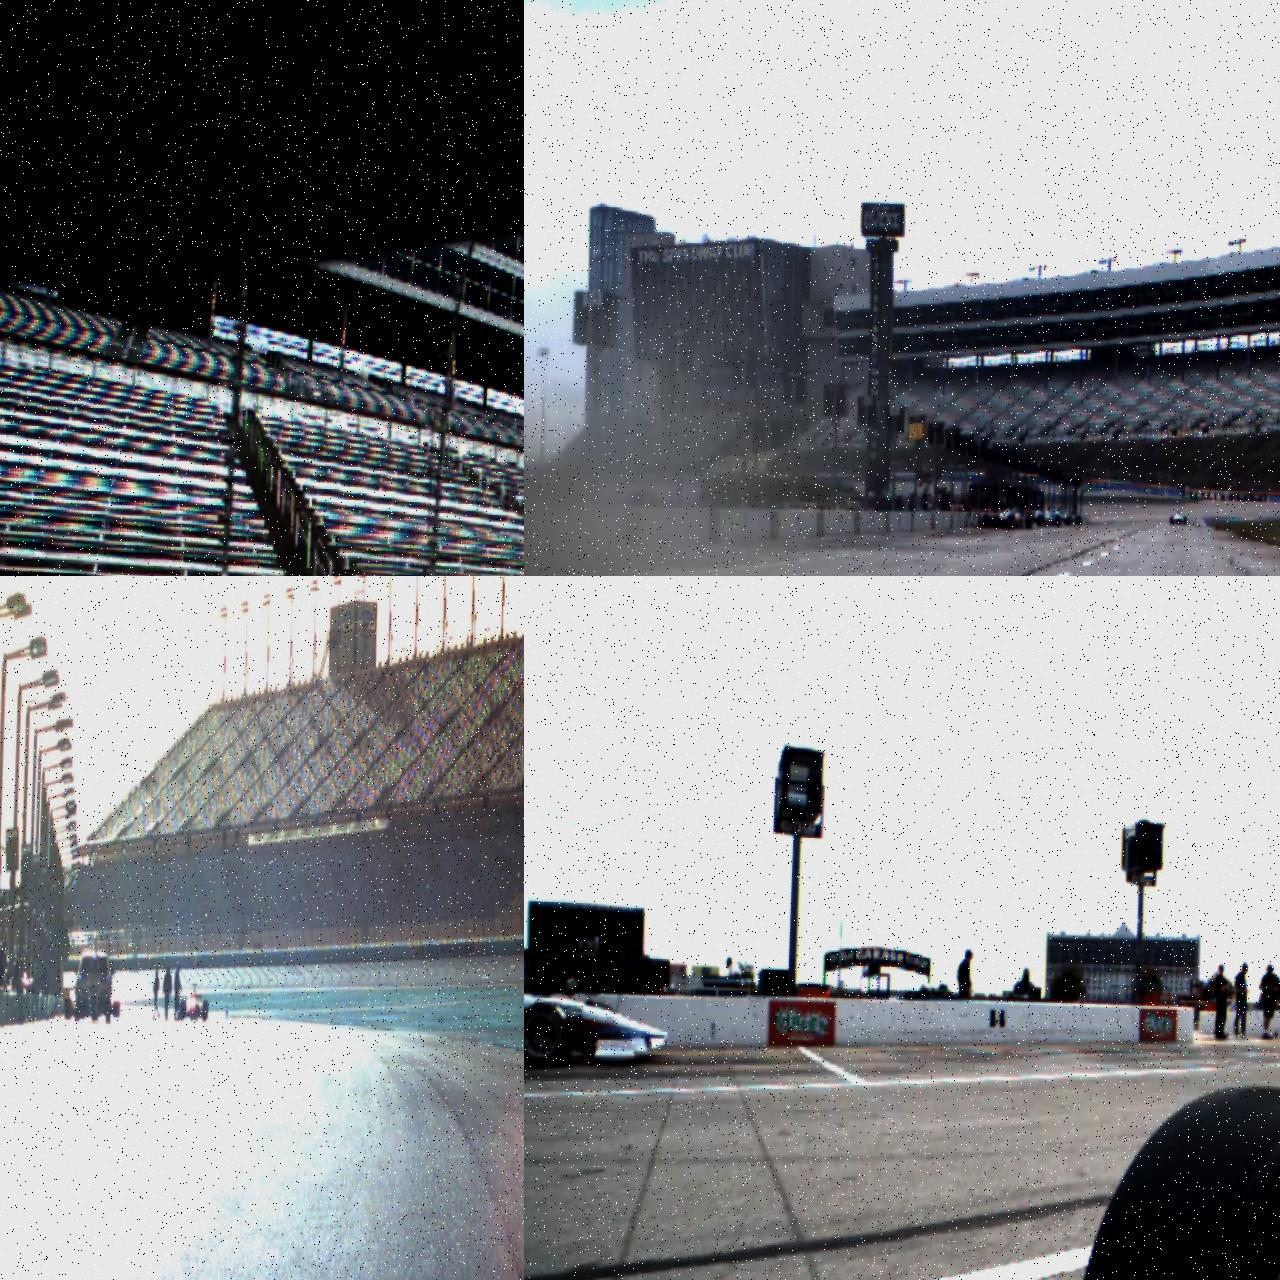AV: (524, 967, 669, 1073), (179, 982, 209, 1020), (1170, 509, 1187, 524)
Wheel: (1063, 1080, 1280, 1280), (524, 1001, 571, 1069), (64, 998, 72, 1019), (1007, 512, 1015, 529), (1024, 513, 1033, 529), (202, 1000, 207, 1020), (113, 1000, 120, 1016), (982, 515, 990, 527), (1036, 513, 1043, 527), (181, 1001, 186, 1017), (1064, 515, 1071, 525), (1055, 515, 1061, 525), (1075, 516, 1081, 525), (1169, 515, 1173, 524), (1184, 516, 1186, 524)
